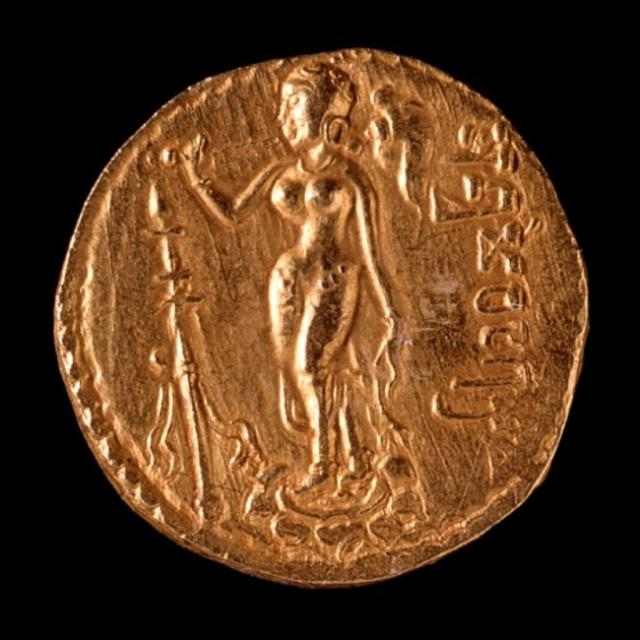Coin: (48, 47, 591, 587)
